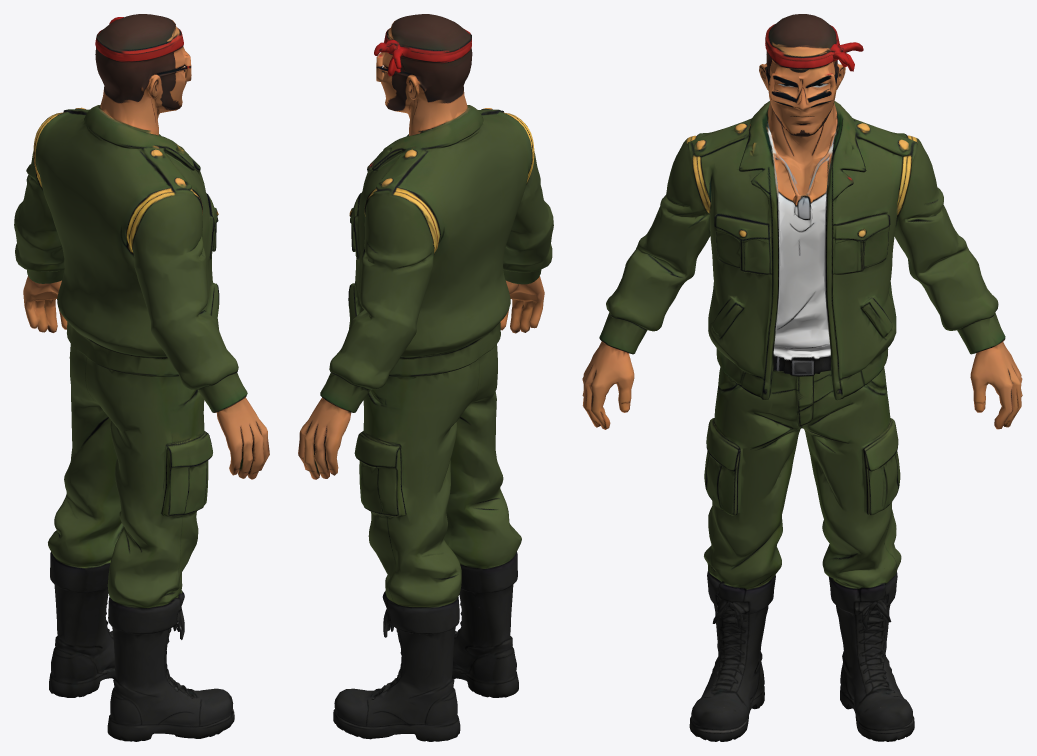
Rendered from carlos_modelo.glb.
3 views of the same model, side by side, from view 1: azimuth 30°, elevation 25°; view 2: azimuth 150°, elevation 25°; view 3: azimuth 270°, elevation 25° (orthographic). The views are drawn at different scales.
Visible parts, largest first — view 1: tripo_node_f1f4a9a3-5878-4319-8049-ee797d30b166; view 2: tripo_node_f1f4a9a3-5878-4319-8049-ee797d30b166; view 3: tripo_node_f1f4a9a3-5878-4319-8049-ee797d30b166.
Boxes of the visible parts, x1=… form: tripo_node_f1f4a9a3-5878-4319-8049-ee797d30b166: x1=14, y1=14, x2=269, y2=741; tripo_node_f1f4a9a3-5878-4319-8049-ee797d30b166: x1=298, y1=14, x2=553, y2=741; tripo_node_f1f4a9a3-5878-4319-8049-ee797d30b166: x1=582, y1=14, x2=1022, y2=741.
Size of the model in its own units: 0.1919 by 1 by 0.5691.
Materials: 1 (1 with a texture image).
